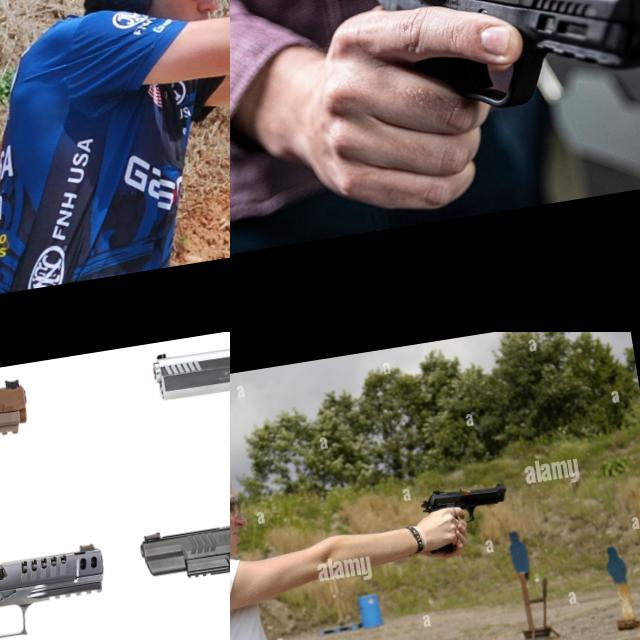handgun: (351, 0, 640, 132), (0, 369, 126, 575), (148, 332, 230, 512), (134, 495, 230, 640), (0, 537, 131, 640), (416, 473, 513, 532)
